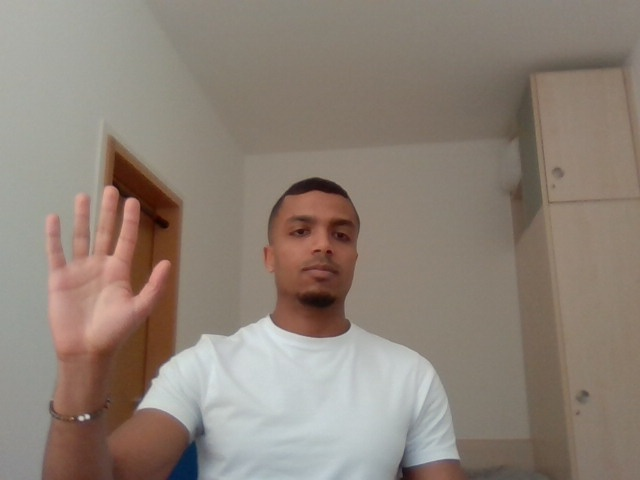hello: (23, 170, 182, 378)
